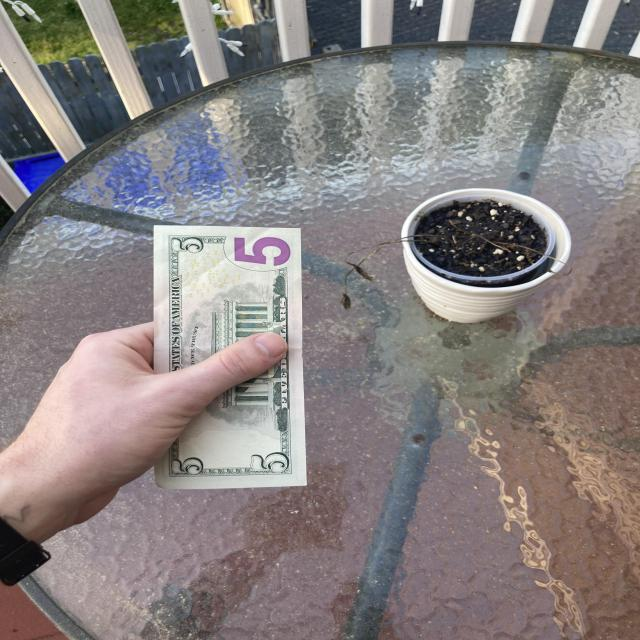five: (153, 226, 306, 486)
